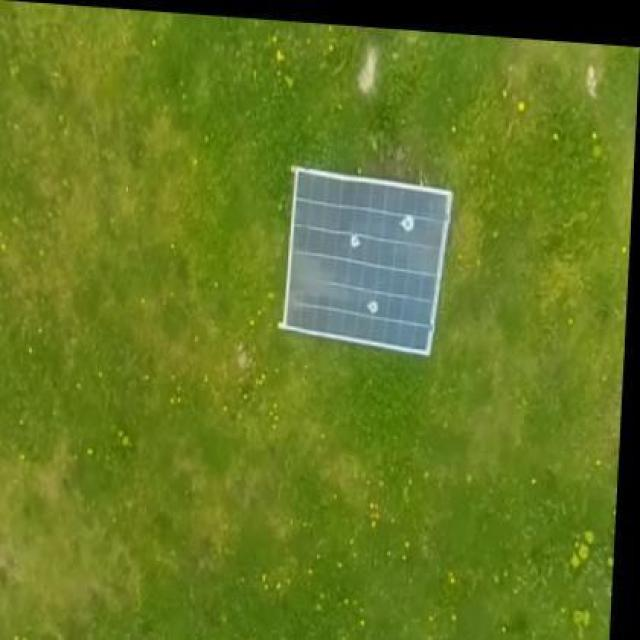soiled: (278, 164, 456, 358)
